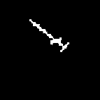double_crochet: (30, 19, 68, 51)
